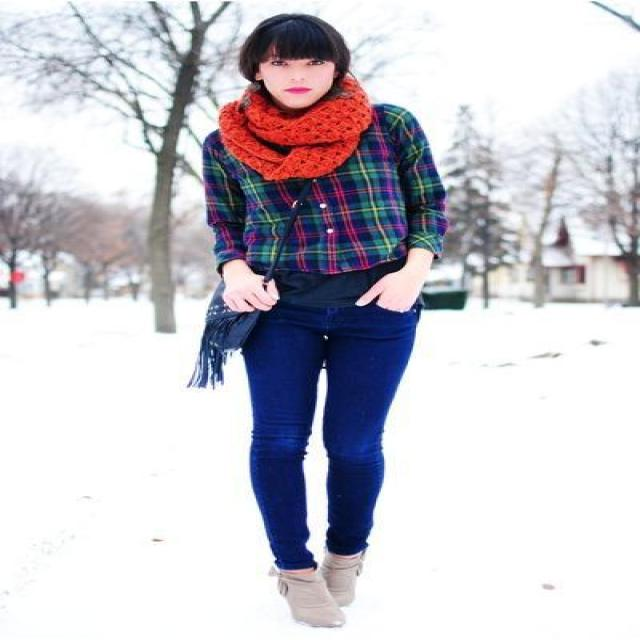bag: (187, 294, 259, 390)
pants: (238, 254, 420, 568)
shirt: (200, 104, 458, 282)
shoe: (269, 540, 363, 627)
